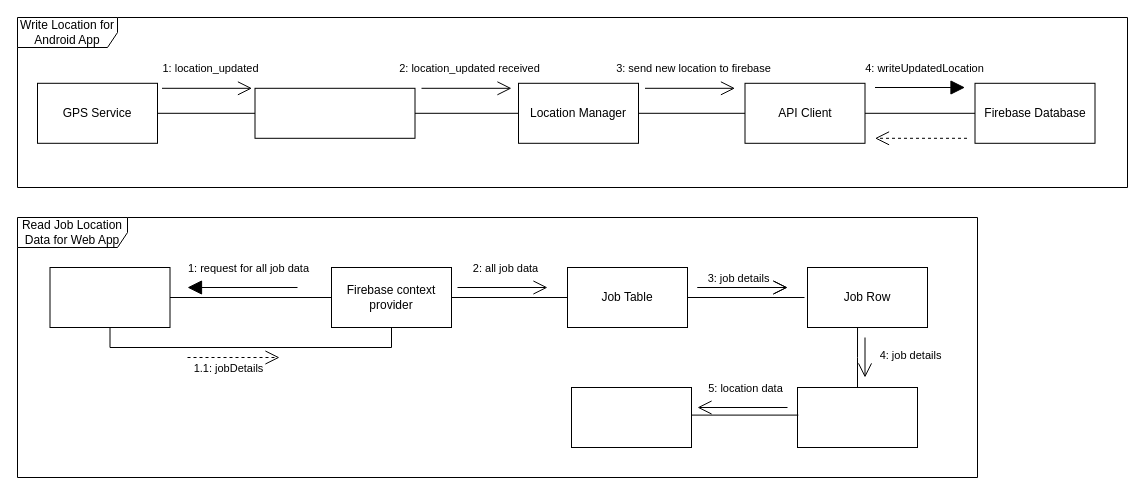
The diagram is 1145 pixels wide and 495 high, and some of its shapes have lost their labels. The shapes that lost their labels are listed below. From the top down, each one's centre as x and y in pixels, then its label:
At (x=334, y=112): "Location Collection Service".
At (x=109, y=297): "Firebase Database Document".
At (x=631, y=417): "Map".
At (x=857, y=417): "Job Details".
